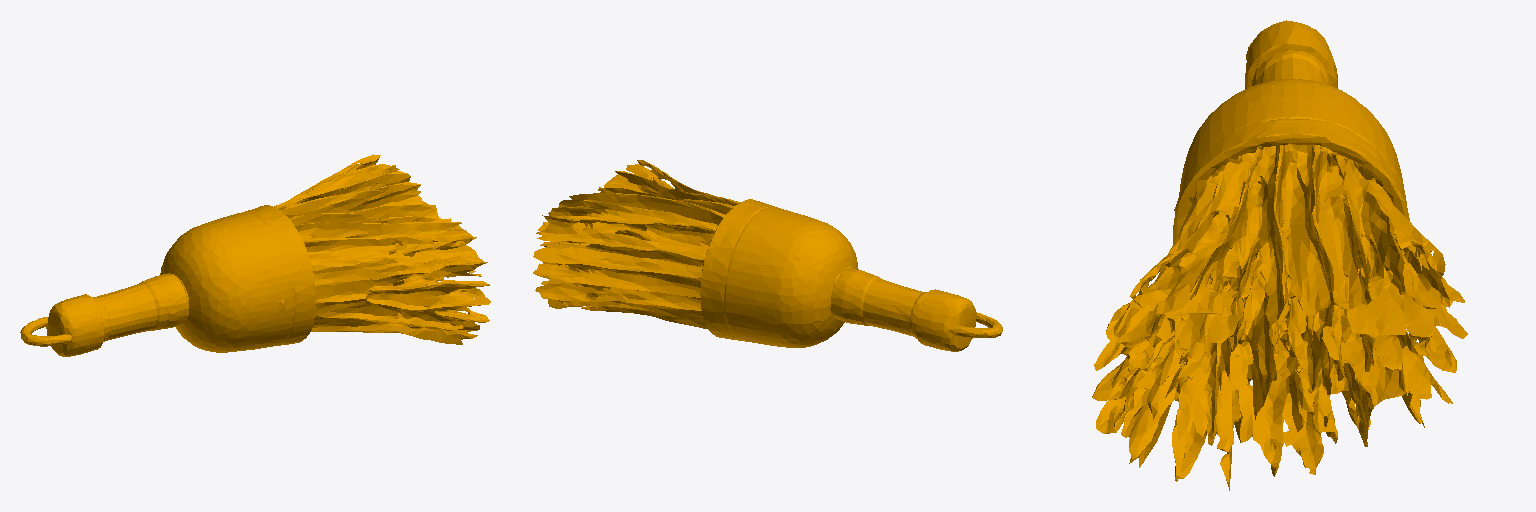
The robot description file, URDF, robot "lab_brush":
<?xml version="1.0"?>
<robot name="lab_brush">
  <link name="lab_brush">
    <visual>
      <origin xyz="0 0 0" rpy="0 0 0"/>
      <geometry>
        <mesh filename="lab_brush.obj" scale="1 1 1"/>
      </geometry>
    </visual>
    <collision>
      <origin xyz="0 0 0" rpy="0 0 0"/>
      <geometry>
        <mesh filename="lab_brush.obj" scale="1 1 1"/>
      </geometry>
    </collision>
    <inertial>
      <density value="400.0"/>
    </inertial>
  </link>
</robot>

--- What the picture shows (computed from the rendered views, not written in the file) ---
The picture shows the robot from 3 angles, left to right: view 1: azimuth 30°, elevation 25°; view 2: azimuth 150°, elevation 25°; view 3: azimuth 270°, elevation 25°; orthographic projection.
Robot: lab_brush — 1 links, 0 joints (none); root link lab_brush; default pose: every joint at zero.
Links seen in each view (by area): view 1: lab_brush; view 2: lab_brush; view 3: lab_brush.
Boxes of the visible links, box(x1,y1,x2,y2) form: lab_brush: box(20, 154, 490, 356); lab_brush: box(533, 160, 1002, 351); lab_brush: box(1092, 20, 1467, 490).
Size in the robot's own frame: 0.2203 by 0.1041 by 0.072 metres.
Meshes: 1 distinct files referenced, 1 mesh visuals loaded (1 OBJ).
